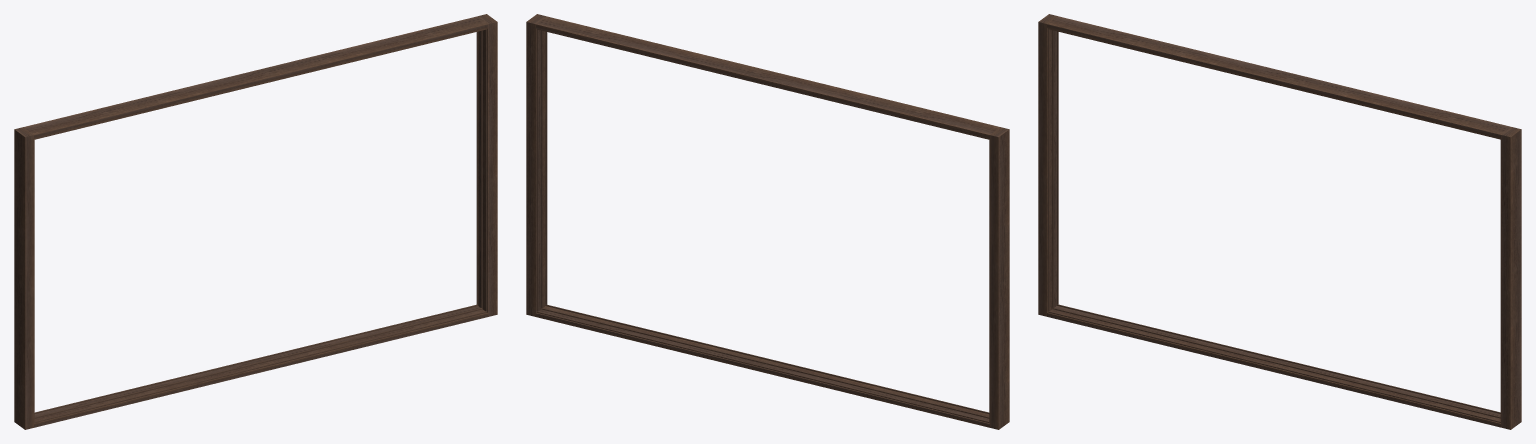
Rendered from windowflame_c.fbx.
3 renders of one model, left to right at view 1: azimuth 30°, elevation 25°; view 2: azimuth 150°, elevation 25°; view 3: azimuth 330°, elevation 25°, orthographic.
Parts seen in each view (by area): view 1: windowflame_c; view 2: windowflame_c; view 3: windowflame_c.
Part boxes in pixels (x1,y1,x2,y2): windowflame_c: (14, 14, 497, 429); windowflame_c: (526, 14, 1009, 429); windowflame_c: (1038, 14, 1521, 429).
Bounding box in the file's own units: 247 × 146 × 9.83.
